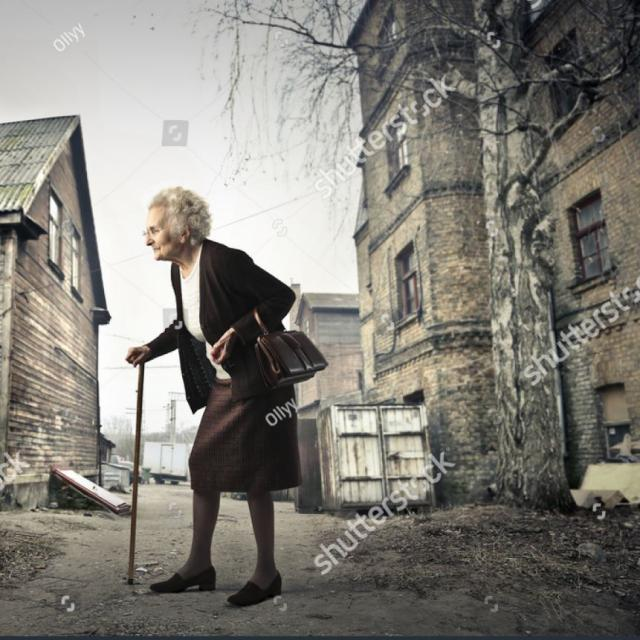idoso em pe: (136, 183, 313, 603)
